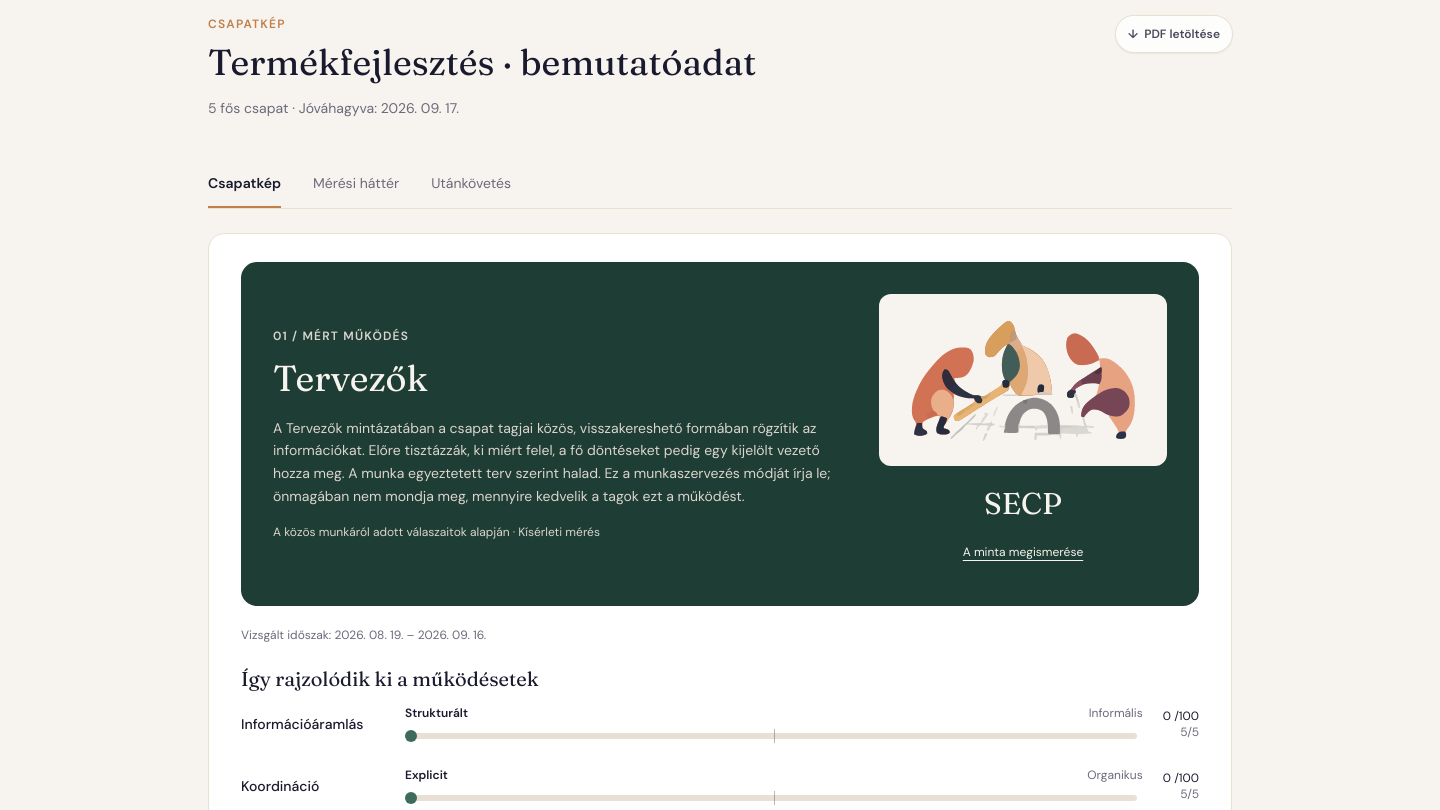
Test: client report reading flow › does not invent commitments and keeps draft action editing disabled
The image size is (1440, 810).
Click the tab "Utánkövetés" at (471, 184), box [431,160,511,208]
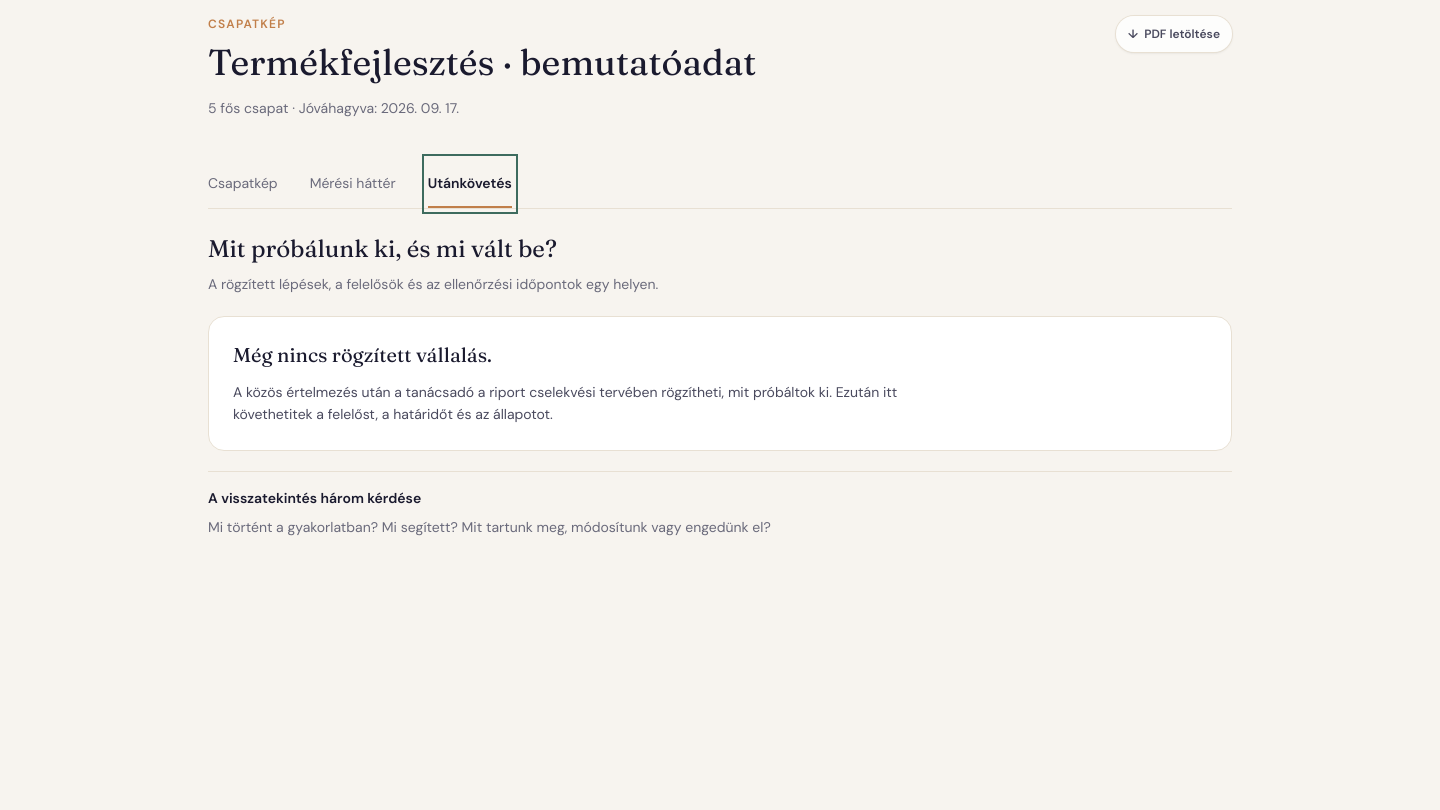
expect the heading "Még nincs rögzített vállalás." is shown: met, box [233,342,492,366]
